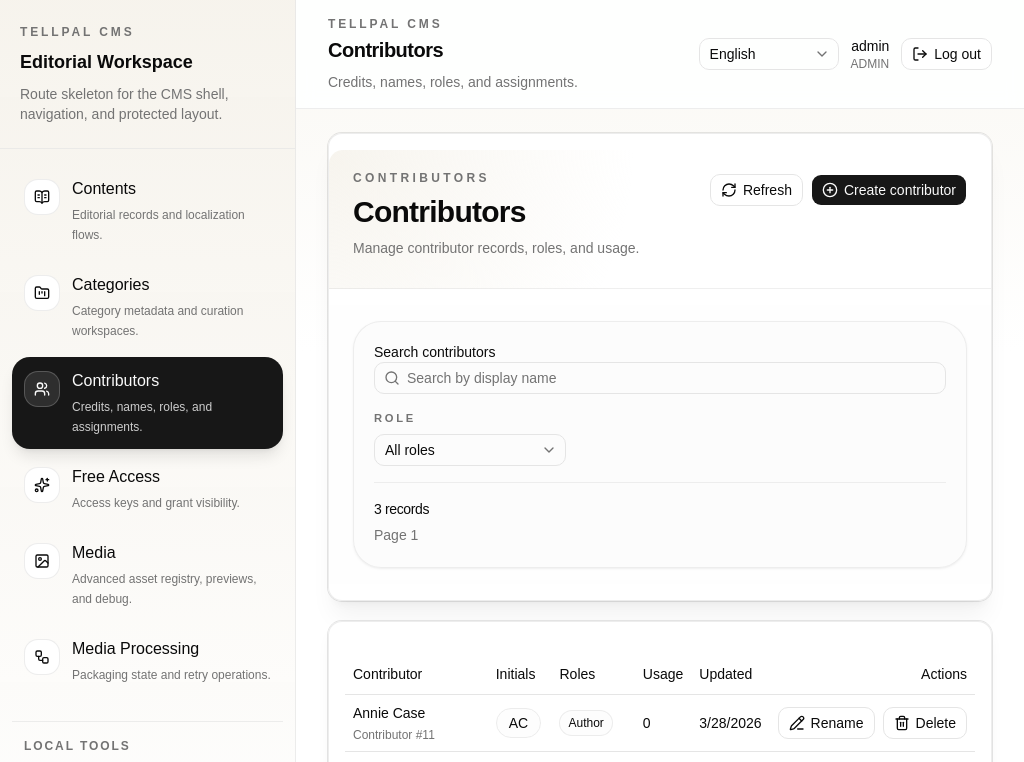
Contributor integration › creates, renames, and deletes contributors from the live registry route
Check: the 2nd heading "Contributors" is shown, box [353,195,526,228]
Click the button "Create contributor".
click(889, 190)  # box [811,174,967,206]
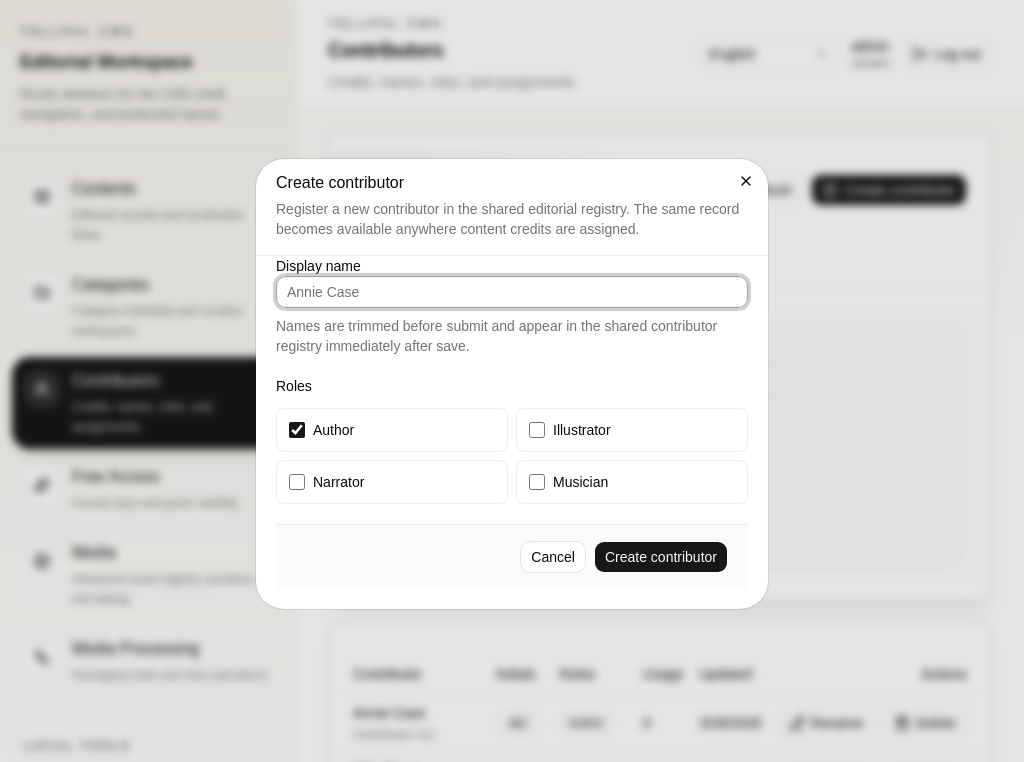
Type " Lina Hart " into the field labelled "Display name".
click(512, 292); type(" Lina Hart ")  # box [276,276,748,308]
Click the button "Create contributor".
click(661, 557)  # box [594,541,728,573]
(page scrolled)
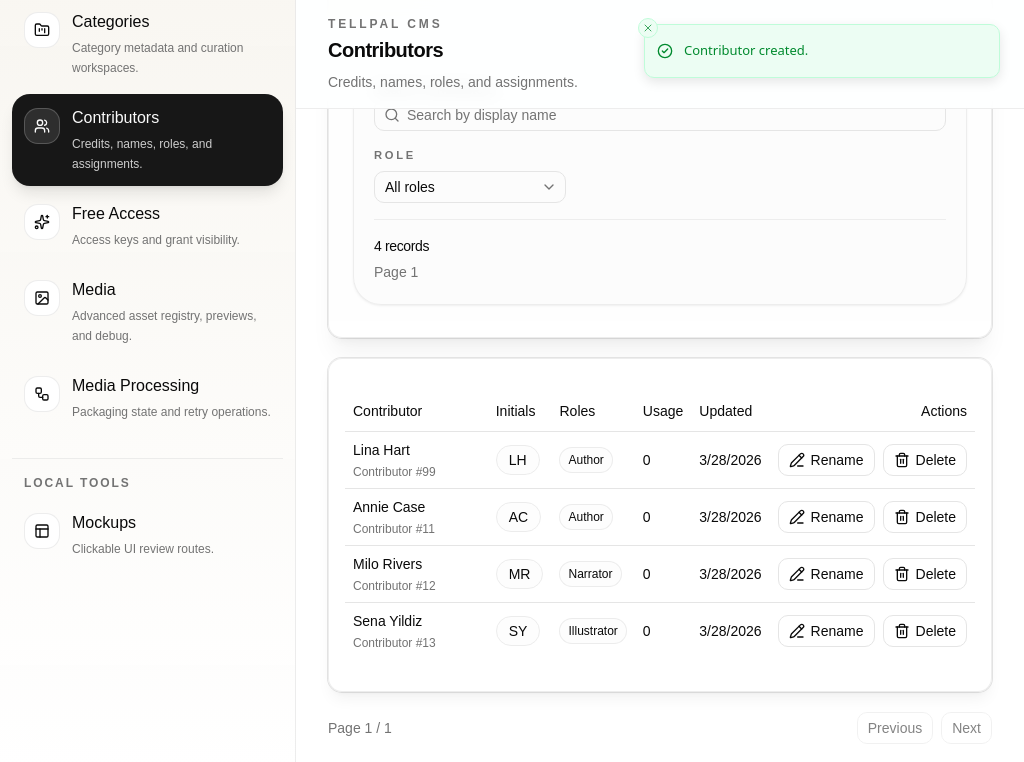
Check: the text "Annie Case" is shown, box [353,498,425,514]
Check: the text "Lina Hart" is shown, box [353,442,410,458]
Click the button "Rename" in the row of "Annie Case".
click(826, 516)  # box [778,500,874,532]
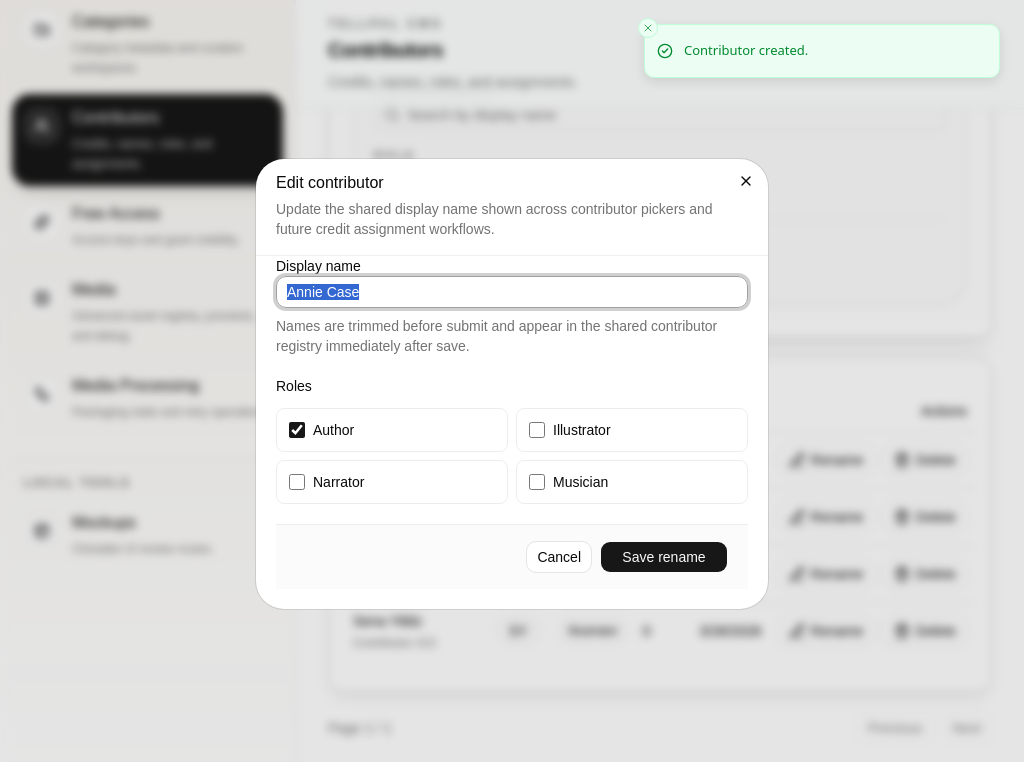
Type " Annie Case Updated " into the field labelled "Display name".
click(512, 292); type(" Annie Case Updated ")  # box [276,276,748,308]
Click the button "Save rename".
click(664, 557)  # box [600,541,728,573]
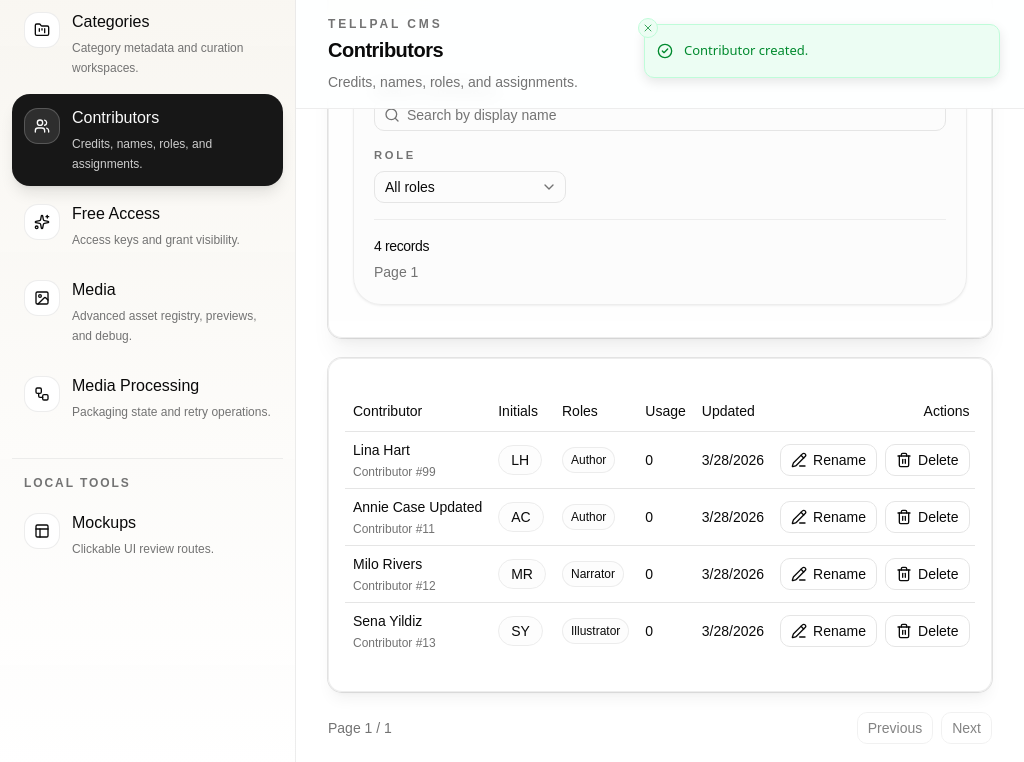
Check: the text "Milo Rivers" is shown, box [353,556,422,572]
Check: the text "Annie Case Updated" is shown, box [353,496,482,516]
Click the button with aria-label "delete milo rivers".
click(927, 574)  # box [885,558,970,590]
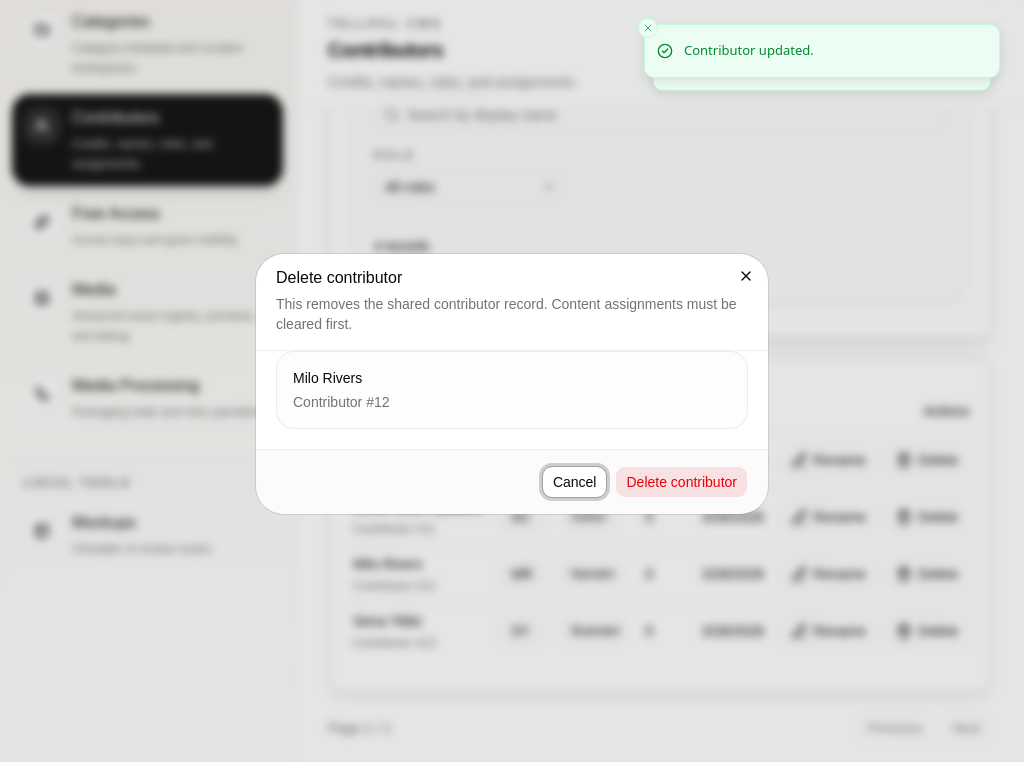
Click the button "Delete contributor".
click(682, 482)  # box [616,466,748,498]
(page scrolled)
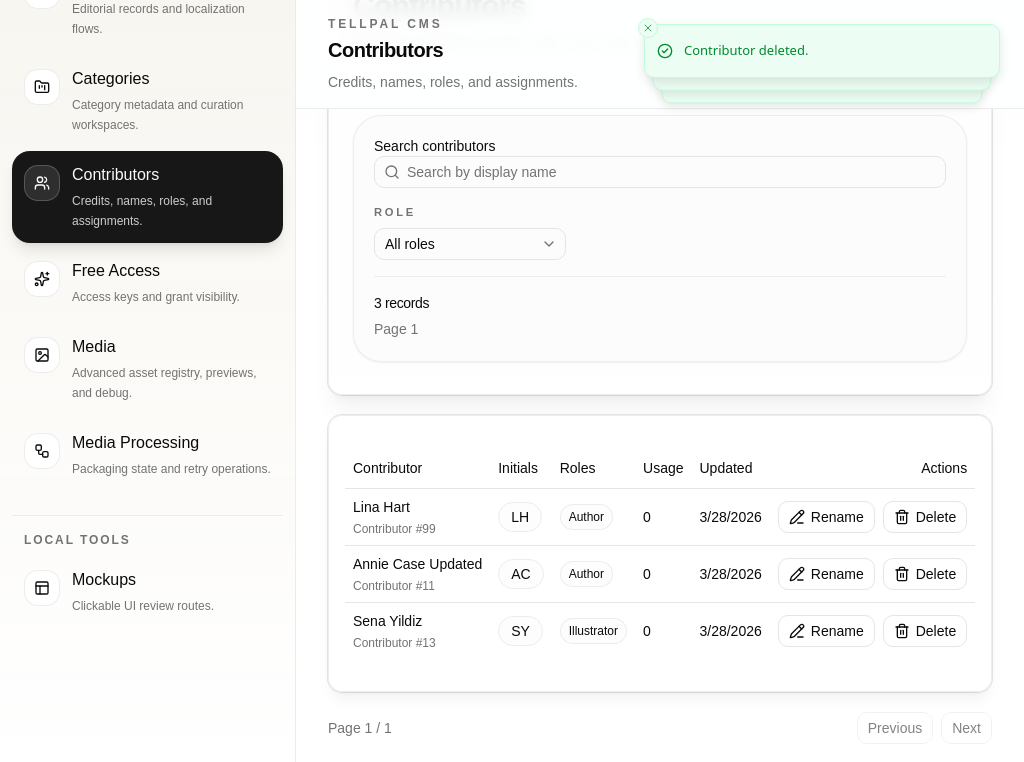
Check: the text "Annie Case Updated" is shown, box [353,554,482,574]
Check: the text "Milo Rivers" is gone
